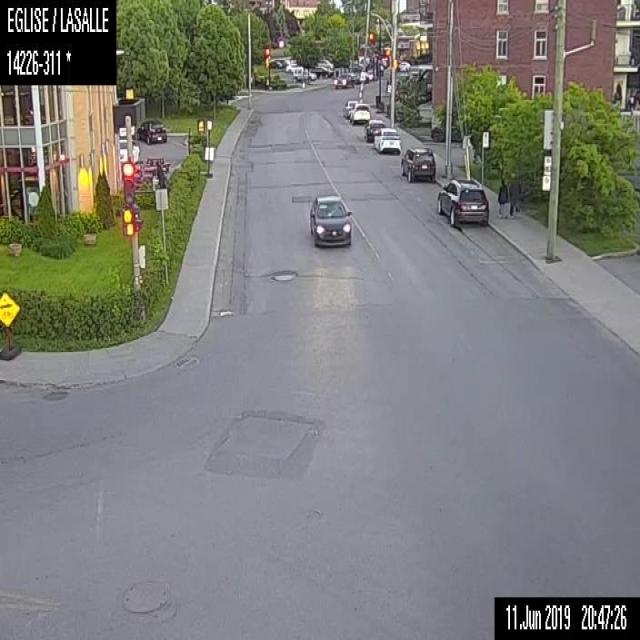pedestrian: (507, 170, 521, 218), (496, 171, 508, 217)
vehicle: (435, 173, 488, 230), (307, 192, 353, 247), (400, 146, 436, 183), (372, 124, 400, 154), (136, 119, 168, 142), (118, 139, 138, 164), (350, 103, 371, 125), (364, 118, 383, 141), (291, 64, 315, 81), (331, 72, 354, 89), (309, 62, 333, 78), (342, 100, 360, 118)
